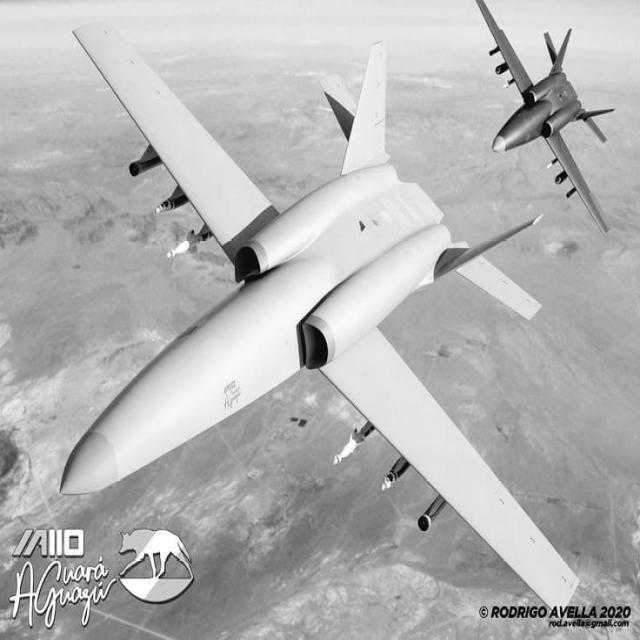iha: (3, 17, 577, 604), (476, 0, 612, 231)
